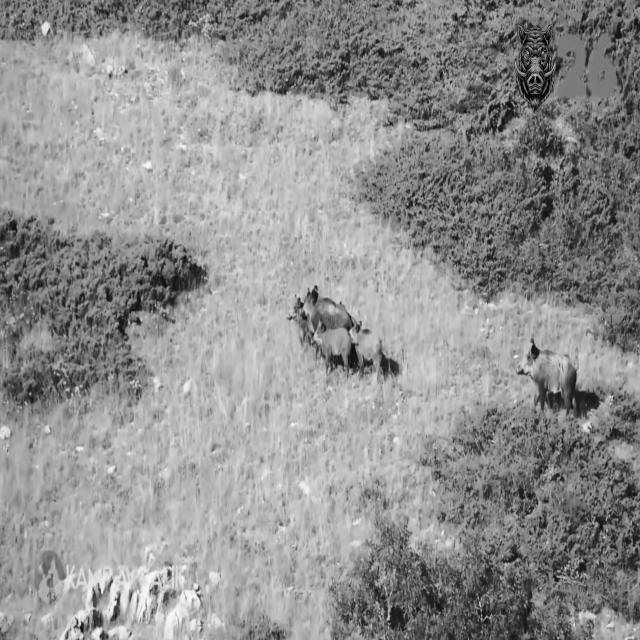boar: (290, 285, 398, 375), (516, 338, 576, 414)
